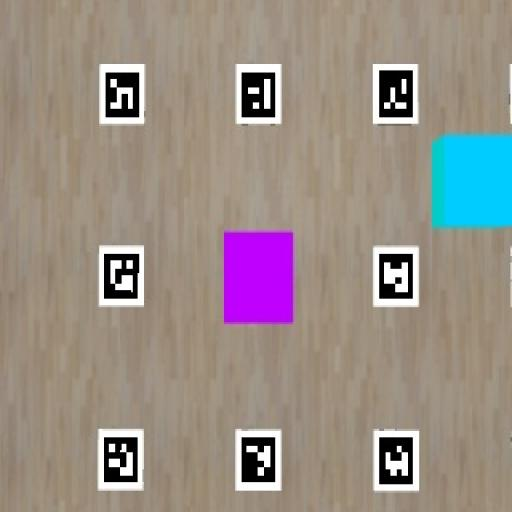car: (431, 135, 511, 228), (224, 231, 294, 324)
